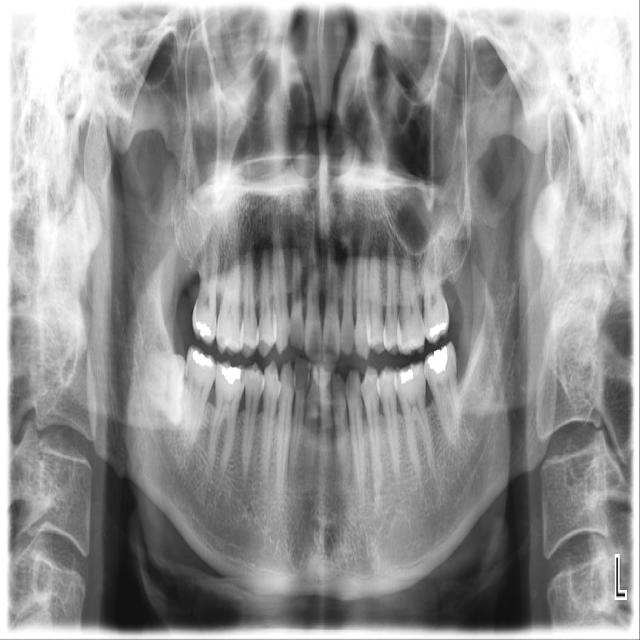Filling: (427, 345, 450, 374), (221, 364, 246, 386), (189, 350, 213, 369), (428, 318, 448, 339), (195, 320, 212, 340), (397, 366, 416, 383)
impacted tooth: (137, 349, 181, 429)
